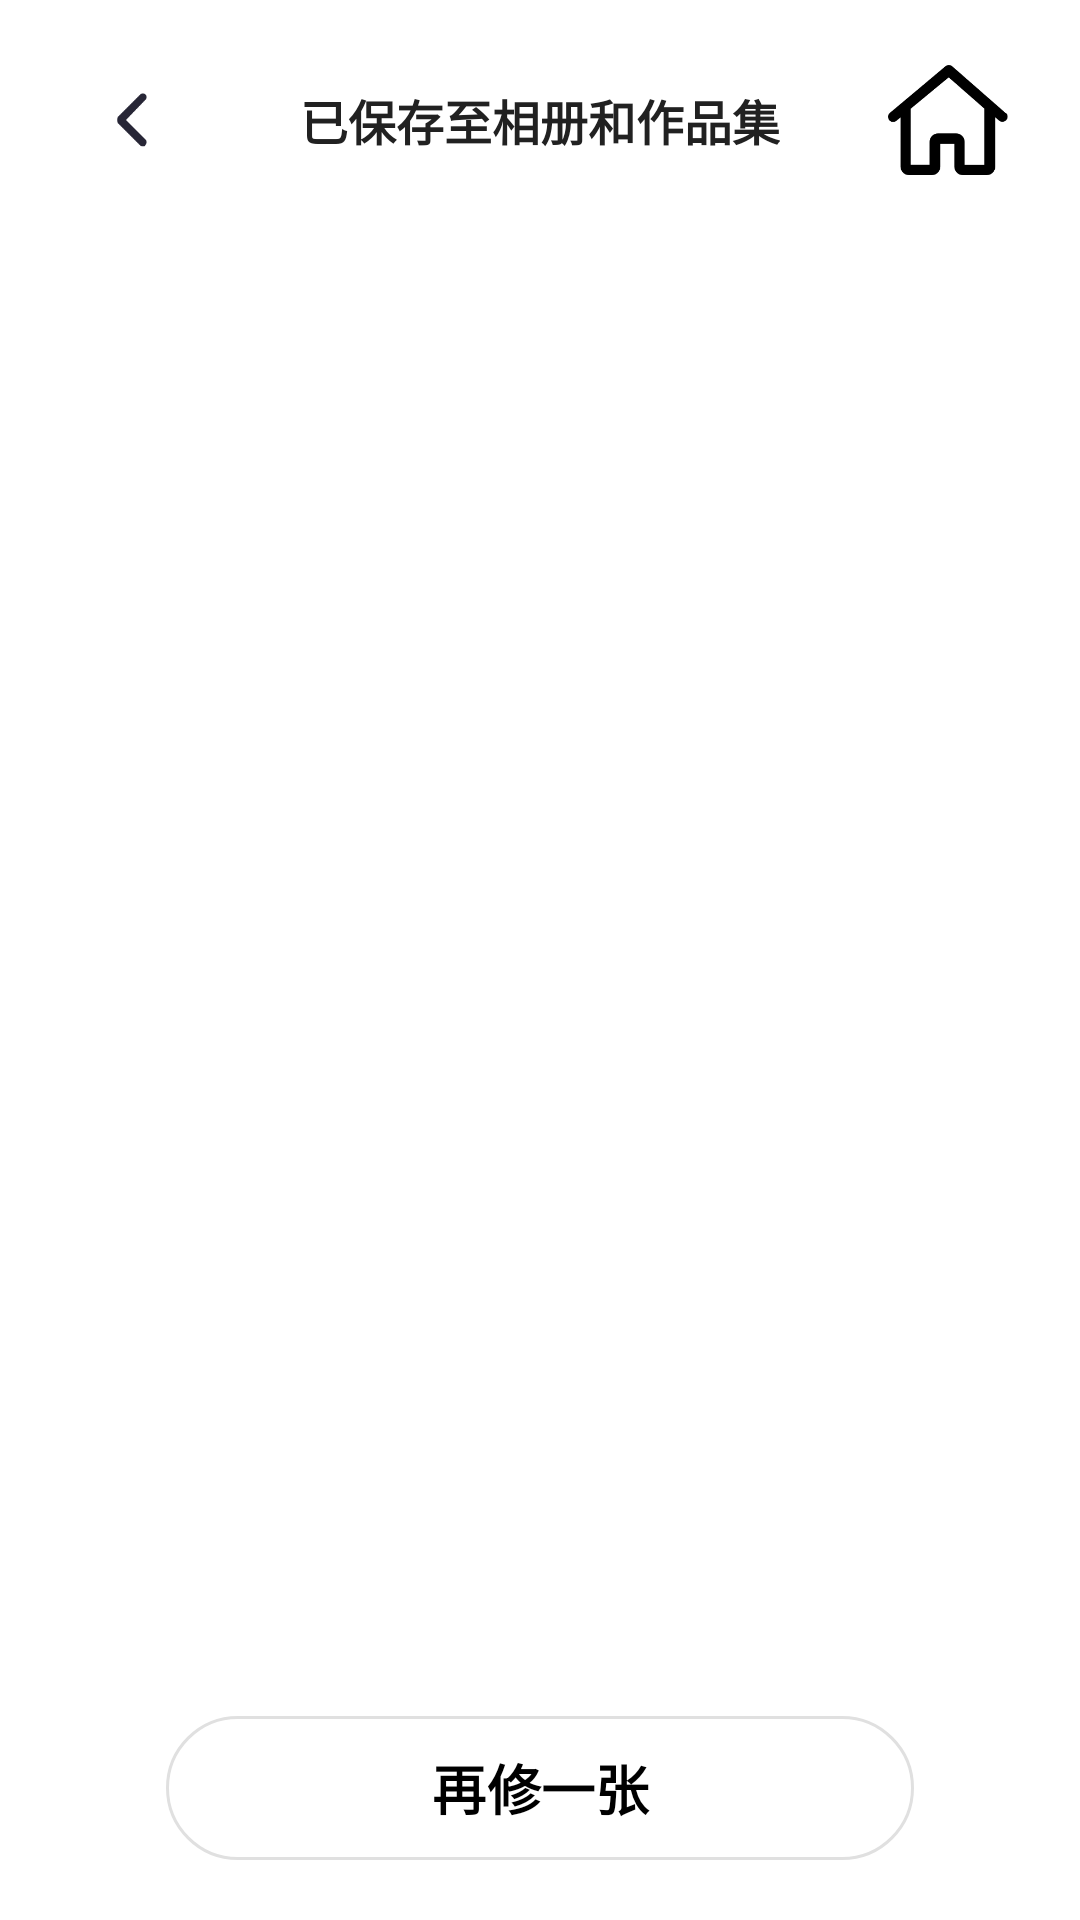

Named icons in this screenshot (1080 × 1920) and their bounding boxes, box=[x1, y1, x2, y2]:
返回主页: box=[888, 65, 1008, 175]
返回编辑页: box=[117, 93, 147, 147]
